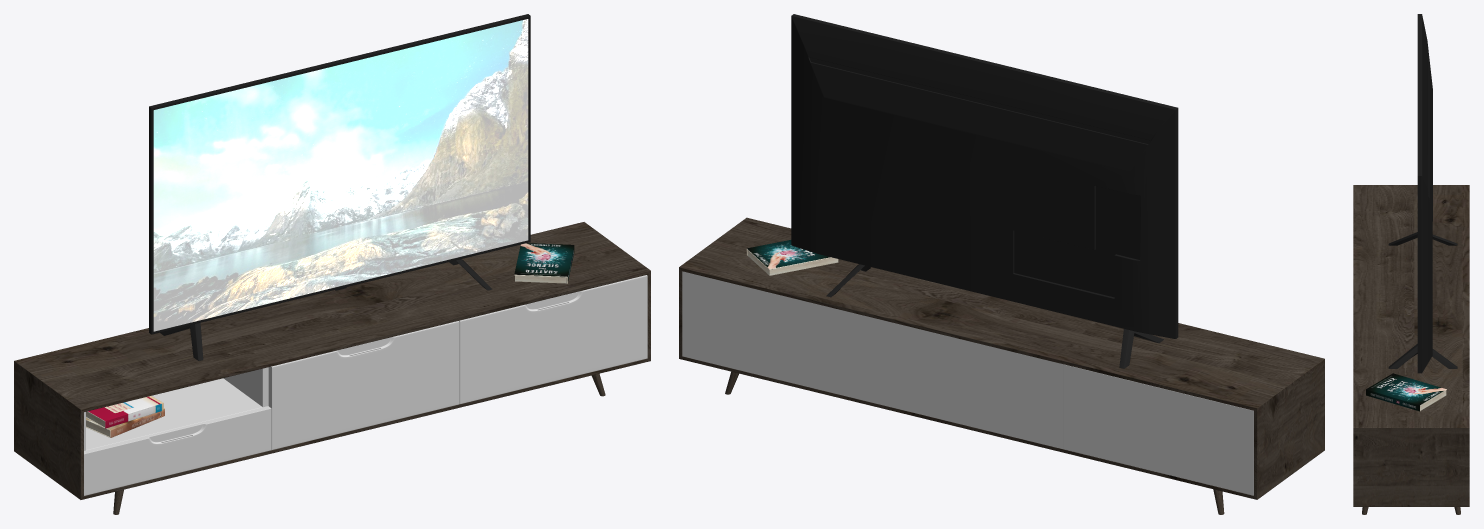
The picture shows the model from 3 angles, left to right: view 1: azimuth 30°, elevation 25°; view 2: azimuth 150°, elevation 25°; view 3: azimuth 270°, elevation 25°; orthographic projection. The views are drawn at different scales.
Parts seen in each view (by area): view 1: Object_11; view 2: Object_11; view 3: Object_11.
Boxes of the visible parts, x1=… form: Object_11: x1=14, y1=14, x2=650, y2=514; Object_11: x1=679, y1=14, x2=1324, y2=514; Object_11: x1=1353, y1=14, x2=1469, y2=514.
Bounding box in the file's own units: 2.44 × 1.5 × 0.4948.
8 materials, 5 textured.
